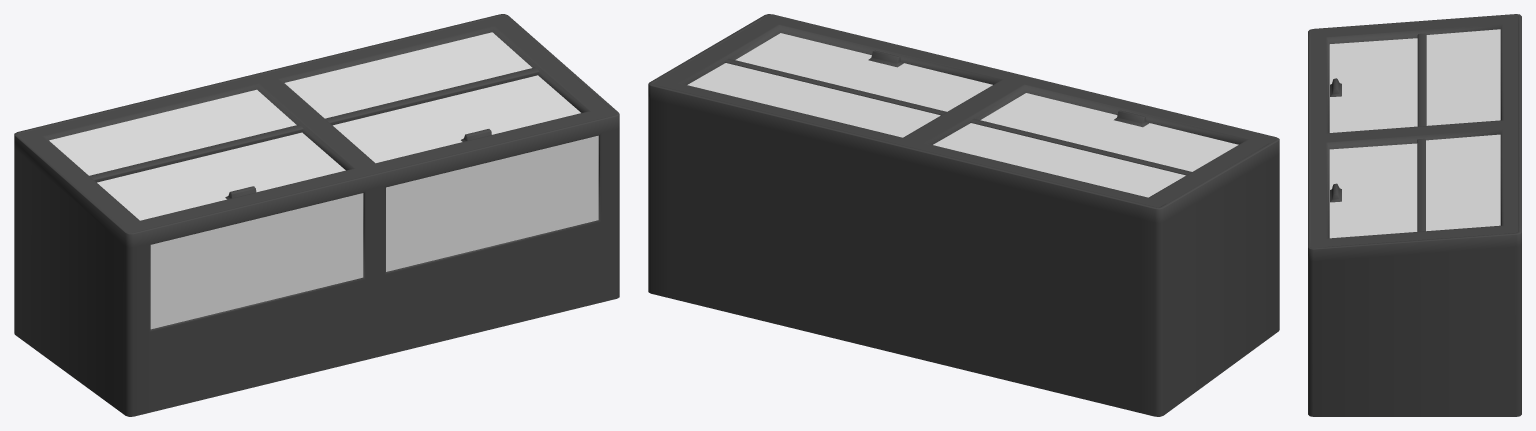
Rendered from Chiller.fbx.
3 renders of one model, left to right at view 1: azimuth 30°, elevation 25°; view 2: azimuth 150°, elevation 25°; view 3: azimuth 270°, elevation 25°, orthographic. The views are drawn at different scales.
Parts seen in each view (by area): view 1: Chiller_Body, Chiller_Kaca, Chiller_L, Chiller_R; view 2: Chiller_Body, Chiller_Kaca, Chiller_L, Chiller_R; view 3: Chiller_Body, Chiller_Kaca, Chiller_L, Chiller_R.
Part boxes in pixels (bbox=[...]): Chiller_Body: bbox=[14, 14, 619, 416]; Chiller_Kaca: bbox=[49, 32, 598, 329]; Chiller_L: bbox=[97, 132, 345, 220]; Chiller_R: bbox=[333, 75, 580, 163]; Chiller_Body: bbox=[648, 14, 1279, 416]; Chiller_Kaca: bbox=[687, 63, 1185, 197]; Chiller_L: bbox=[980, 93, 1238, 171]; Chiller_R: bbox=[735, 33, 992, 111]; Chiller_Body: bbox=[1308, 14, 1521, 416]; Chiller_Kaca: bbox=[1426, 29, 1500, 231]; Chiller_L: bbox=[1329, 38, 1417, 132]; Chiller_R: bbox=[1329, 143, 1417, 238].
Bounding box in the file's own units: 254 × 98.2 × 104.
3 materials, 2 textured.
